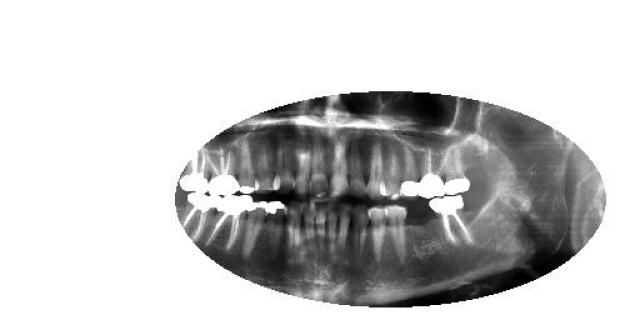Fillings: (265, 200, 287, 265), (442, 153, 473, 195), (244, 195, 262, 264), (398, 148, 420, 198)
Implant: (429, 195, 480, 247), (205, 192, 247, 252), (206, 140, 244, 195), (178, 195, 214, 243), (416, 150, 445, 198), (182, 151, 208, 194)
